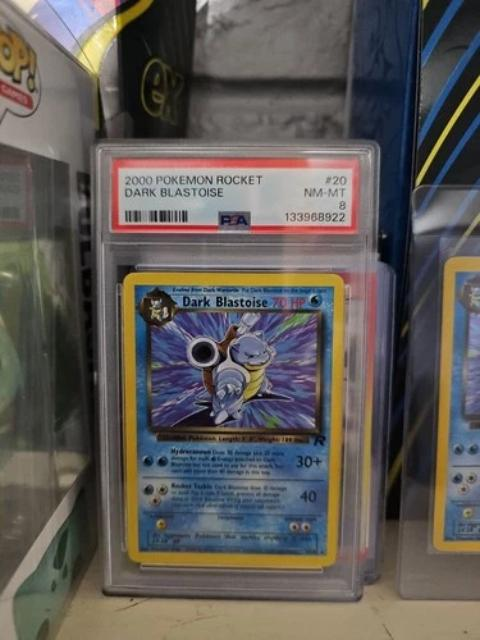Card: (117, 268, 348, 571)
Name: (179, 293, 274, 312)
